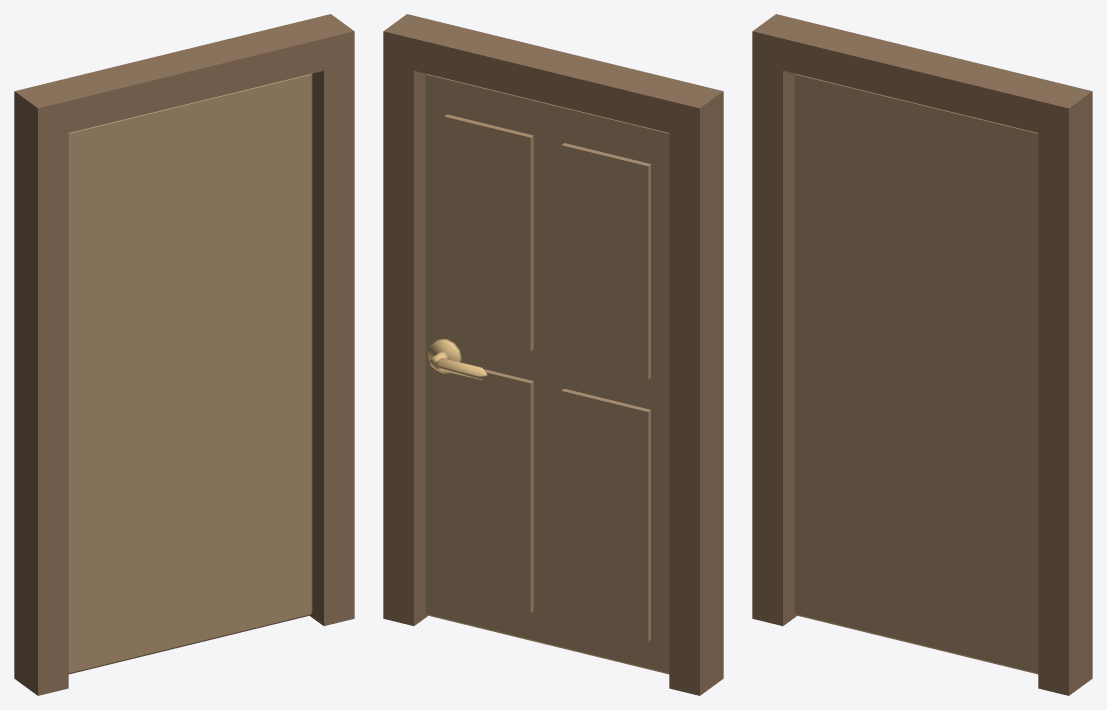
The model's file is Door.fbx.
3 views of the same model, side by side, from view 1: azimuth 30°, elevation 25°; view 2: azimuth 150°, elevation 25°; view 3: azimuth 330°, elevation 25° (orthographic).
Visible parts, largest first — view 1: Door_Rosette, Door_JambL; view 2: Door_Rosette, Door_JambL; view 3: Door_Rosette, Door_JambL.
Boxes of the visible parts, x1=… form: Door_Rosette: x1=68, y1=73, x2=312, y2=674; Door_JambL: x1=14, y1=14, x2=354, y2=695; Door_Rosette: x1=425, y1=73, x2=669, y2=674; Door_JambL: x1=383, y1=14, x2=723, y2=695; Door_Rosette: x1=794, y1=73, x2=1038, y2=674; Door_JambL: x1=752, y1=14, x2=1092, y2=695.
Bounding box in the file's own units: 124 × 220 × 20.75.
